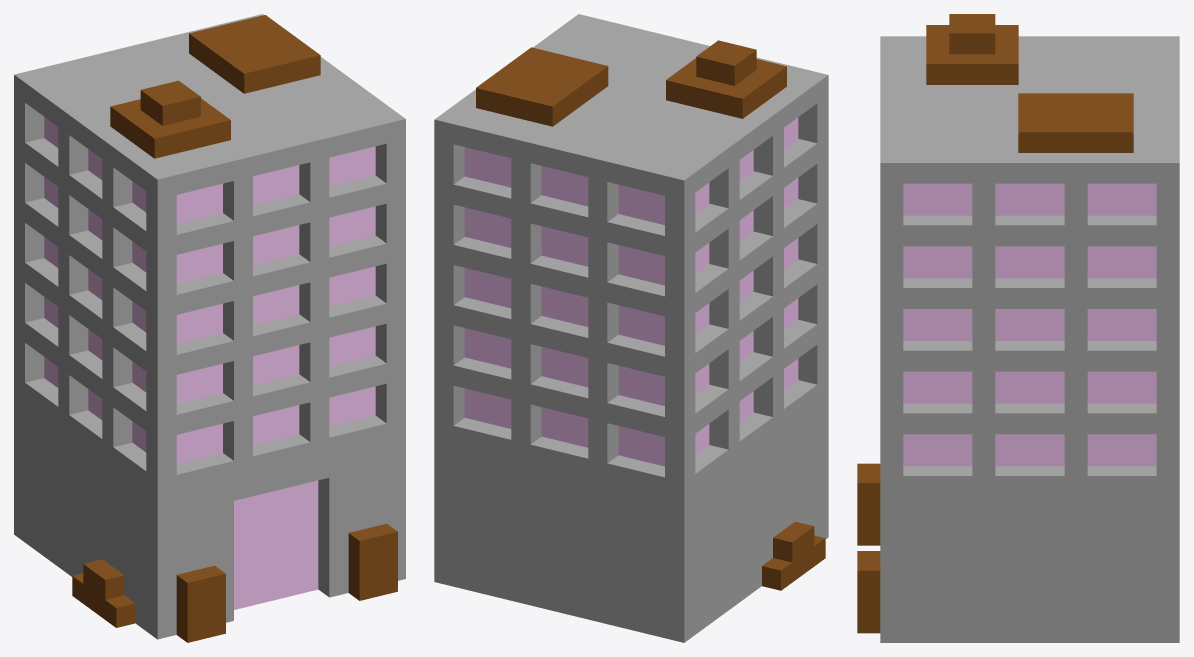
File: edificio1.obj
The picture shows the model from 3 angles, left to right: view 1: azimuth 30°, elevation 25°; view 2: azimuth 150°, elevation 25°; view 3: azimuth 270°, elevation 25°; orthographic projection. The views are drawn at different scales.
Size of the model in its own units: 1.4 by 2.5 by 1.4.
1 material, 1 textured.
